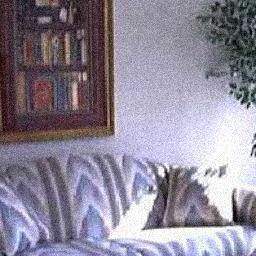Matera: (225, 0, 256, 256)
